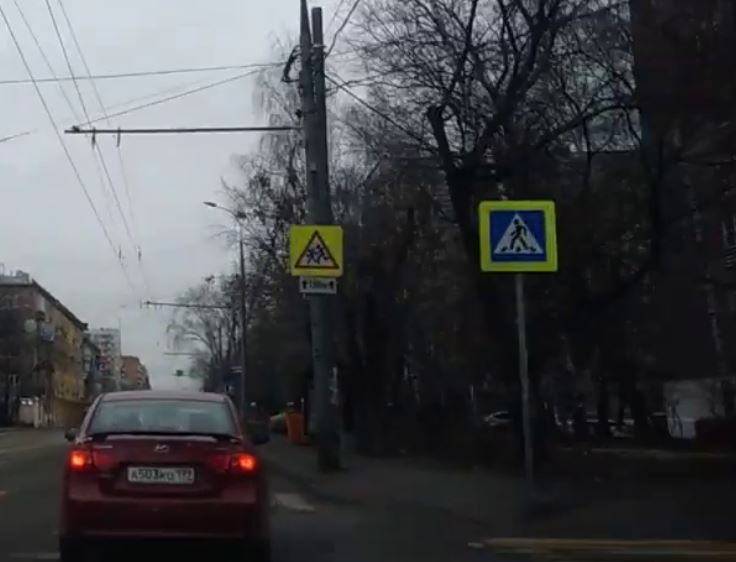Yaya Gecidi: (488, 208, 550, 263)
